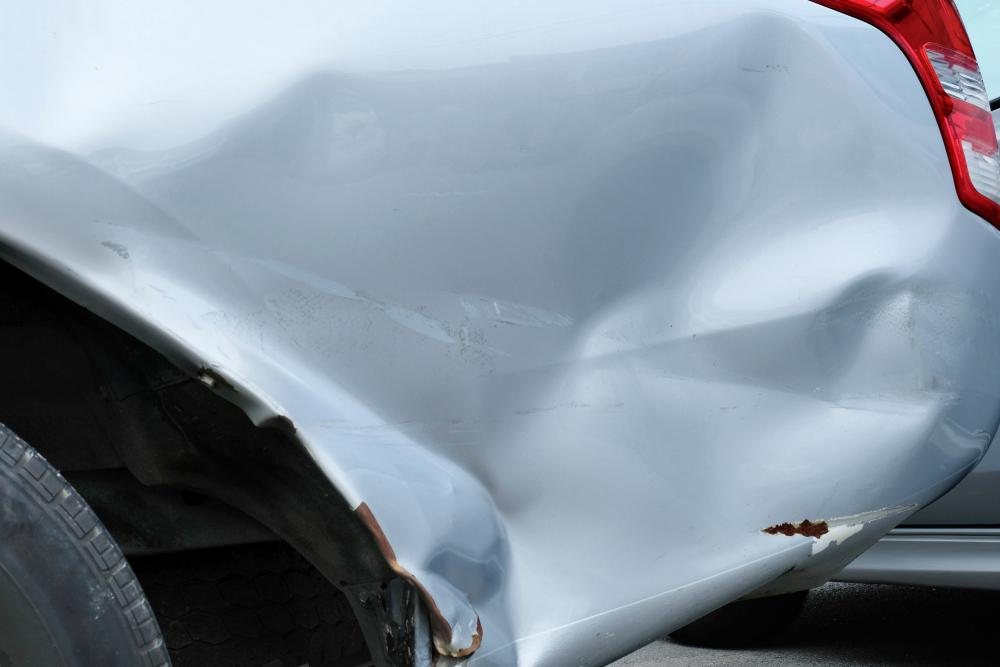dent: (55, 19, 988, 657)
